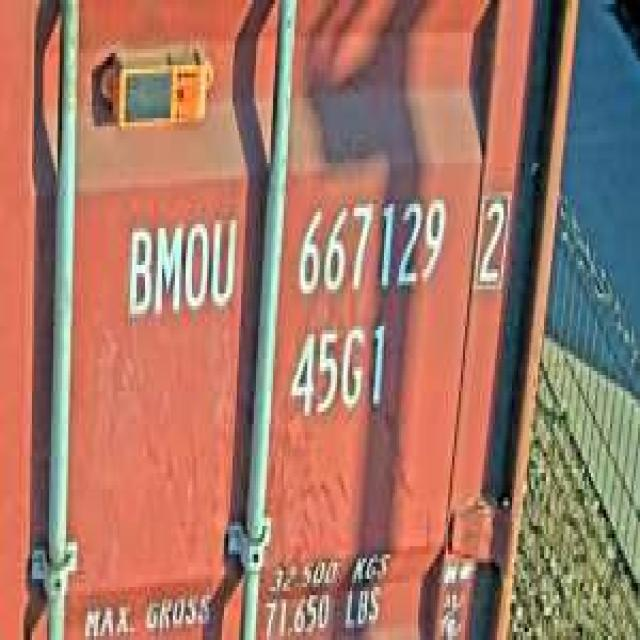dv: (471, 184, 512, 298)
owner: (122, 208, 239, 330)
serial: (290, 188, 450, 306)
size: (284, 314, 388, 428)
